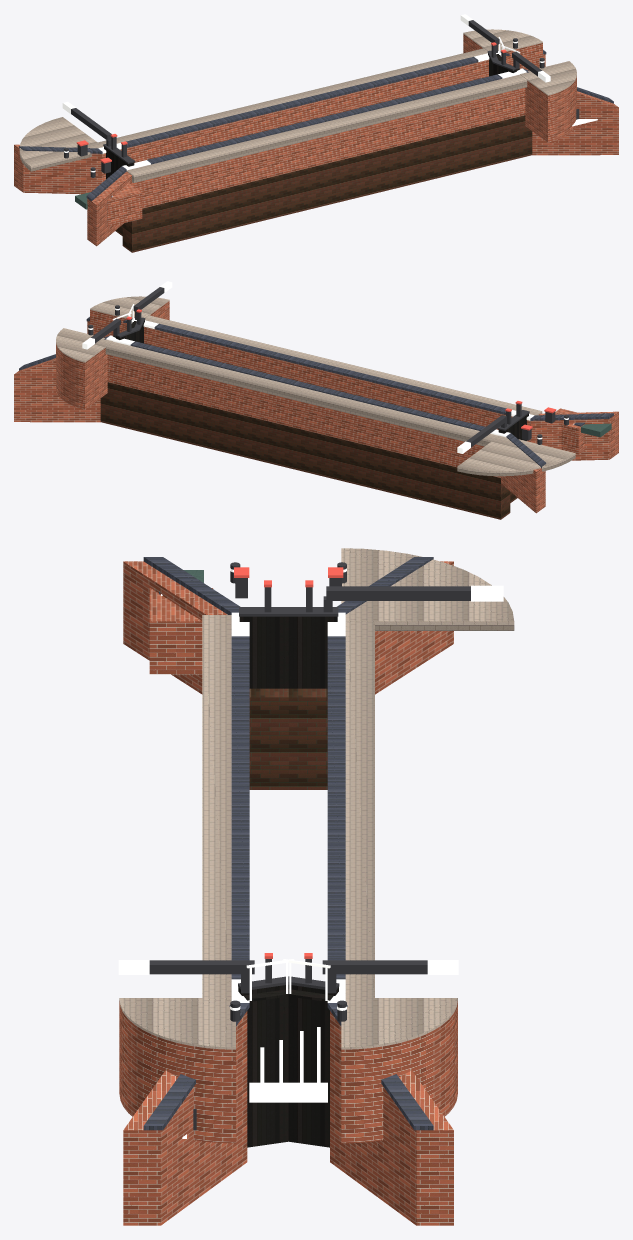
File: lock-49.glb
3 renders of one model, top to bottom at view 1: azimuth 30°, elevation 25°; view 2: azimuth 150°, elevation 25°; view 3: azimuth 270°, elevation 25°, orthographic. The views are drawn at different scales.
Visible parts, largest first — view 1: Chamber, ChamberWet, Edge, Coping.001, TopGateCap, Coping, TopGate; view 2: Chamber, ChamberWet, Edge, Coping.001, TopGateCap, Coping, TopGate; view 3: Chamber, Edge, Coping.001, TopGate, TopGateCap, ChamberWet, Coping, Leak.
Part boxes in pixels (x1,y1,x2,y2): Chamber: (14, 34, 618, 246); ChamberWet: (115, 115, 532, 252); Edge: (19, 29, 576, 182); Coping.001: (19, 50, 613, 201); TopGateCap: (64, 20, 579, 177); Coping: (62, 14, 550, 172); TopGate: (104, 53, 519, 178); Chamber: (14, 301, 618, 513); ChamberWet: (100, 382, 517, 519); Edge: (56, 296, 575, 476); Coping.001: (19, 317, 613, 468); TopGateCap: (88, 287, 568, 447); Coping: (82, 281, 568, 453); TopGate: (113, 320, 528, 440); Chamber: (119, 561, 457, 1225); Edge: (119, 548, 514, 1049); Coping.001: (143, 557, 433, 1130); TopGate: (238, 616, 338, 1147); TopGateCap: (149, 562, 470, 1130); ChamberWet: (249, 688, 327, 789); Coping: (118, 568, 503, 1010); Leak: (161, 594, 327, 1138).
Size of the model in its own units: 32.76 by 5.75 by 10.52.
11 materials, 8 textured.
